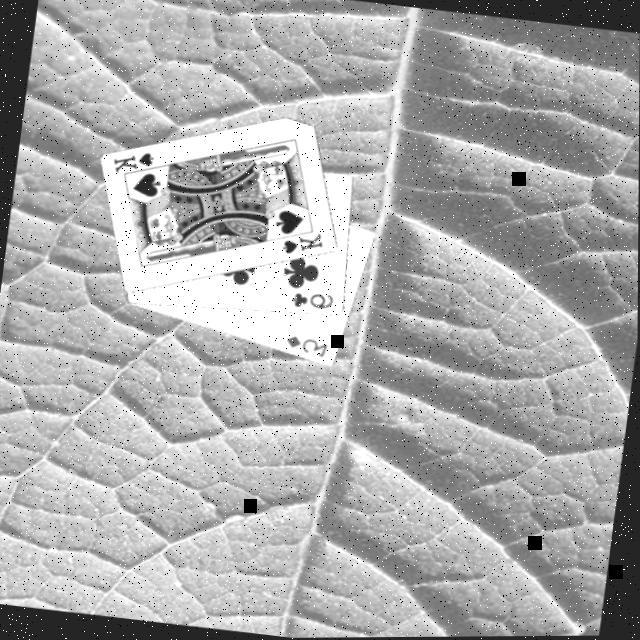3D: (280, 332, 330, 362)
6C: (286, 287, 336, 316)
KS: (106, 146, 163, 183), (276, 227, 326, 262)
